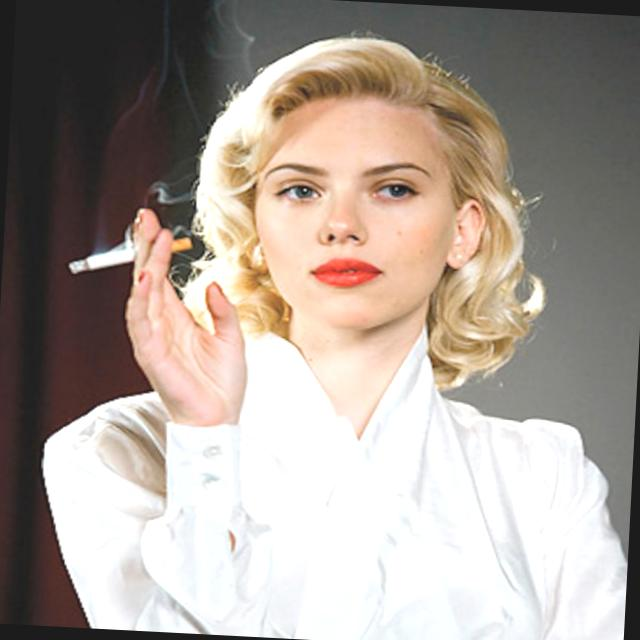smoke: (60, 194, 201, 308)
